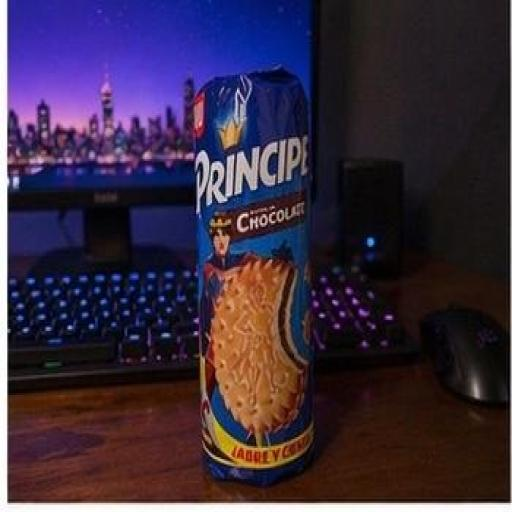prince: (144, 28, 374, 494)
